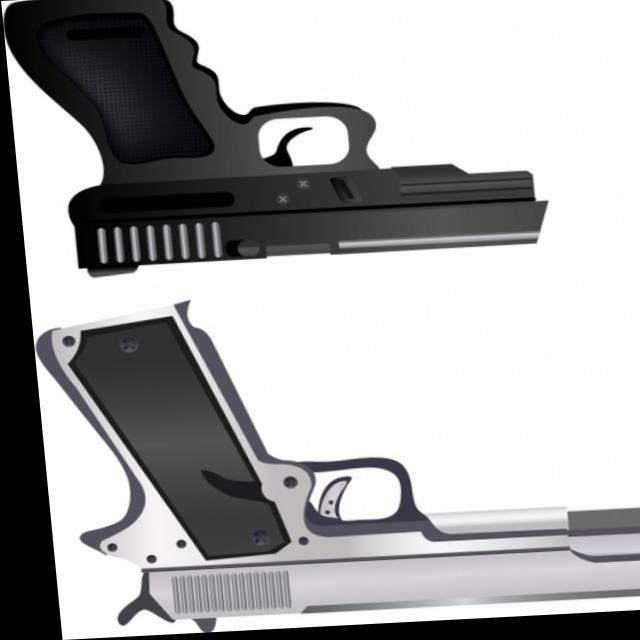handgun: (29, 289, 640, 634), (1, 0, 540, 280)
